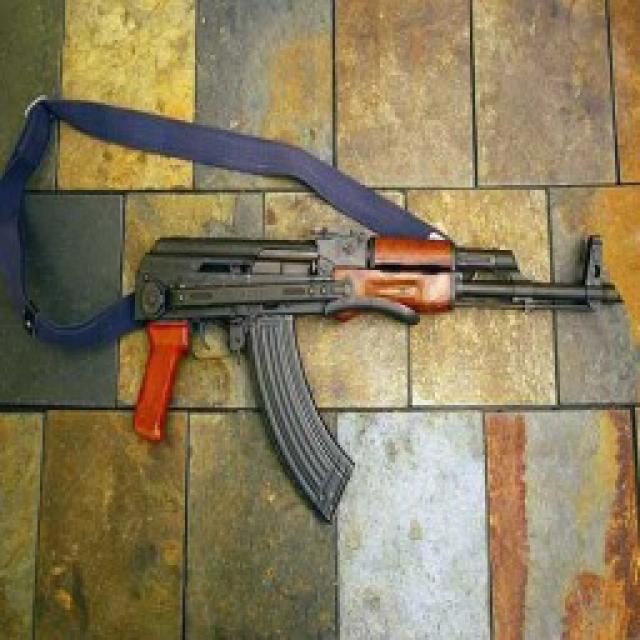long weapon: (86, 220, 625, 486)
